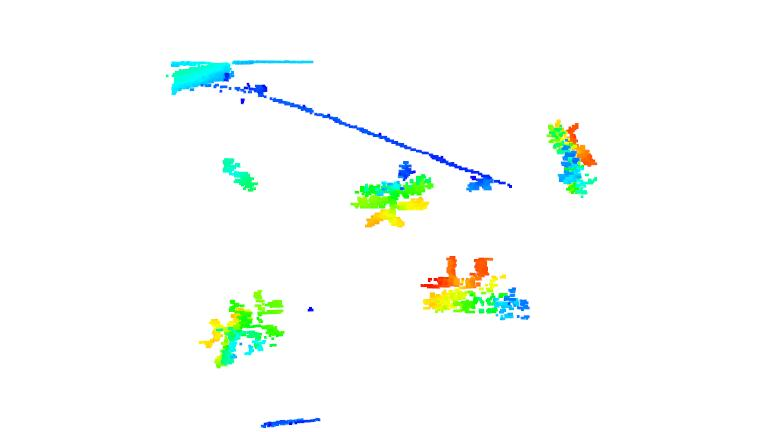chickpea: (194, 287, 294, 368), (419, 257, 534, 324), (352, 159, 438, 229), (543, 117, 600, 200), (219, 155, 263, 196)
